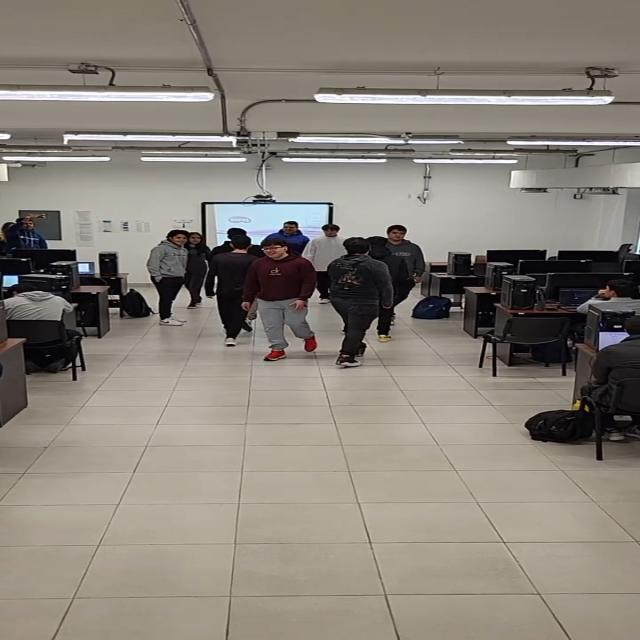Persona: (238, 237, 320, 361), (325, 236, 394, 368), (204, 235, 263, 347), (366, 235, 414, 343), (146, 229, 190, 326), (303, 223, 349, 305), (371, 224, 428, 283), (185, 232, 210, 310), (264, 220, 314, 252)
